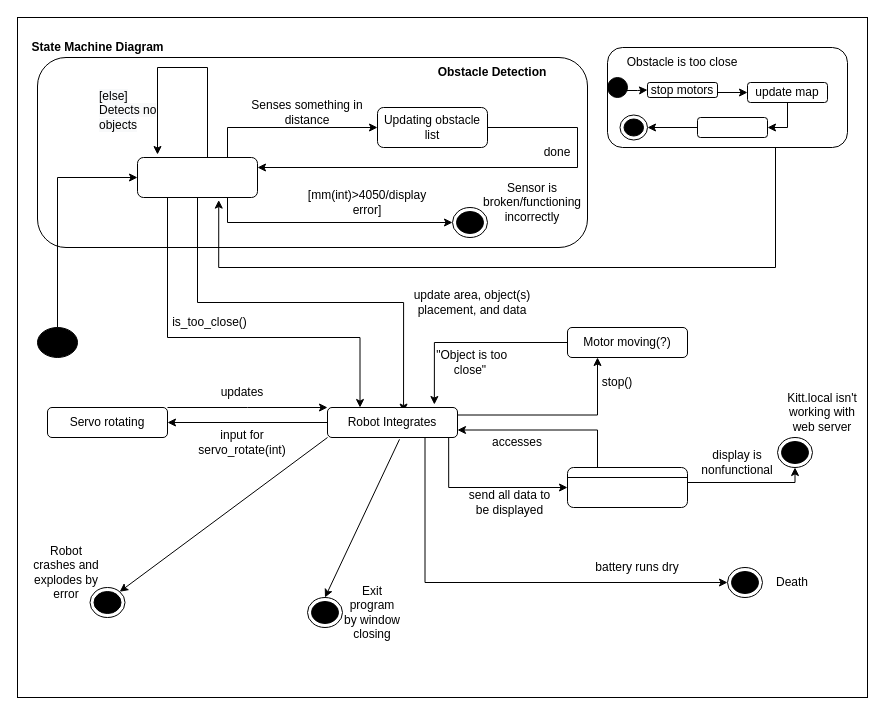
Some shapes in this 885 by 715 pixel diagram are drawn without their labels. The centre of each missing label's shape, as x and y in pixels:
"inform user" belongs at [732,127].
"Ultrasonic Detecting" belongs at [197,177].
"User Interface Enter /commands" belongs at [627,487].
